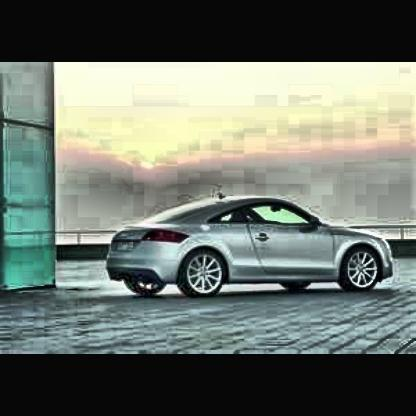Audi TT Hatchback 2011: (102, 192, 397, 304)
